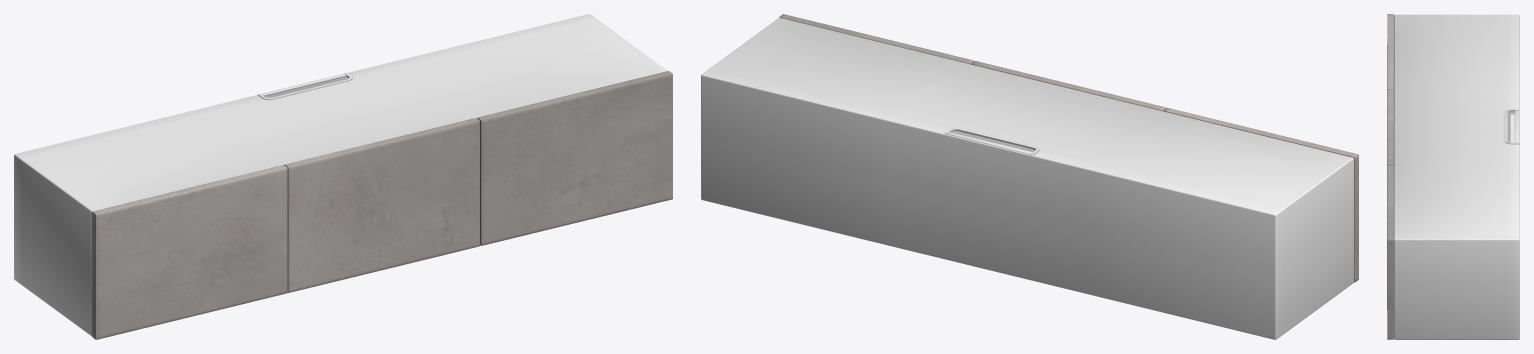
The model's file is white Kallviken light grey,.gltf.
The picture shows the model from 3 angles, left to right: view 1: azimuth 30°, elevation 25°; view 2: azimuth 150°, elevation 25°; view 3: azimuth 270°, elevation 25°; orthographic projection. The views are drawn at different scales.
Visible parts, largest first — view 1: Tv Shelf_002; view 2: Tv Shelf_002; view 3: Tv Shelf_002.
Boxes of the visible parts, <box> form: Tv Shelf_002: <box>14,14,672,339</box>; Tv Shelf_002: <box>701,14,1358,339</box>; Tv Shelf_002: <box>1387,14,1519,339</box>.
Size of the model in its own units: 1.81 by 0.3792 by 0.4496.
1 material, 1 textured.
